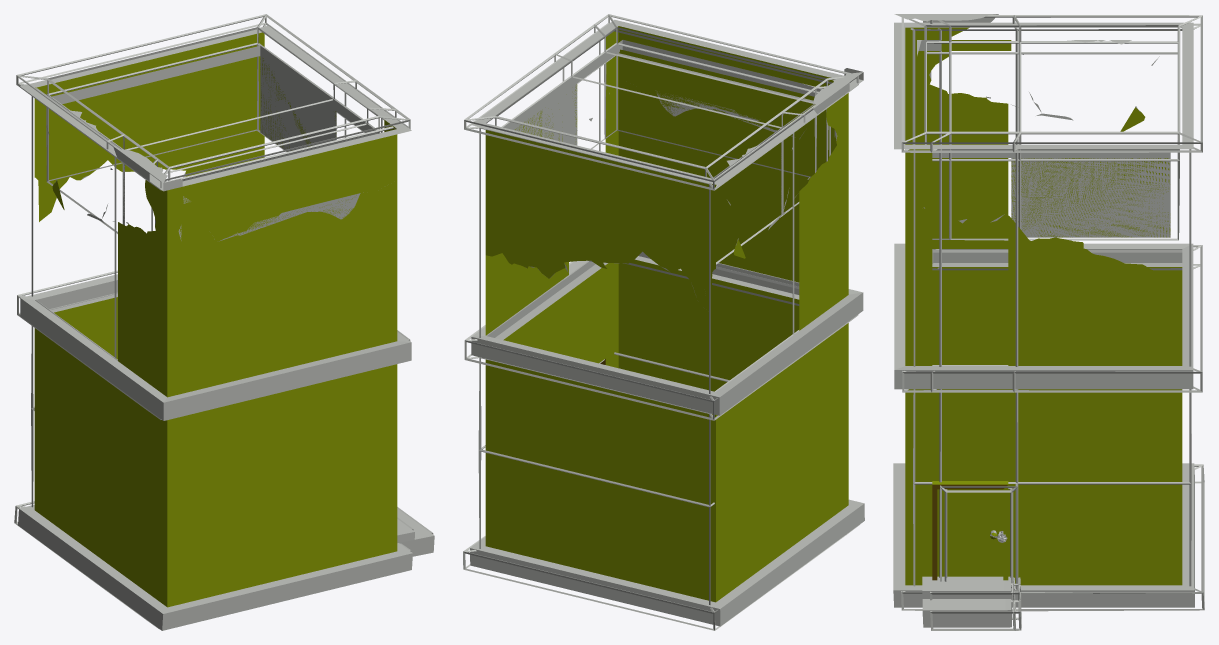
The model's file is bloc.fbx.
The picture shows the model from 3 angles, left to right: view 1: azimuth 30°, elevation 25°; view 2: azimuth 150°, elevation 25°; view 3: azimuth 270°, elevation 25°; orthographic projection. The views are drawn at different scales.
Parts seen in each view (by area): view 1: Cube, Cube.001; view 2: Cube, Cube.001; view 3: Cube, Cube.001.
Part boxes in pixels (x1=…): Cube: x1=18, y1=25, x2=434, y2=630; Cube.001: x1=14, y1=14, x2=433, y2=629; Cube: x1=470, y1=19, x2=864, y2=626; Cube.001: x1=463, y1=14, x2=859, y2=630; Cube: x1=893, y1=14, x2=1194, y2=627; Cube.001: x1=901, y1=15, x2=1204, y2=630.
Bounding box in the file's own units: 904 × 1351 × 809.
